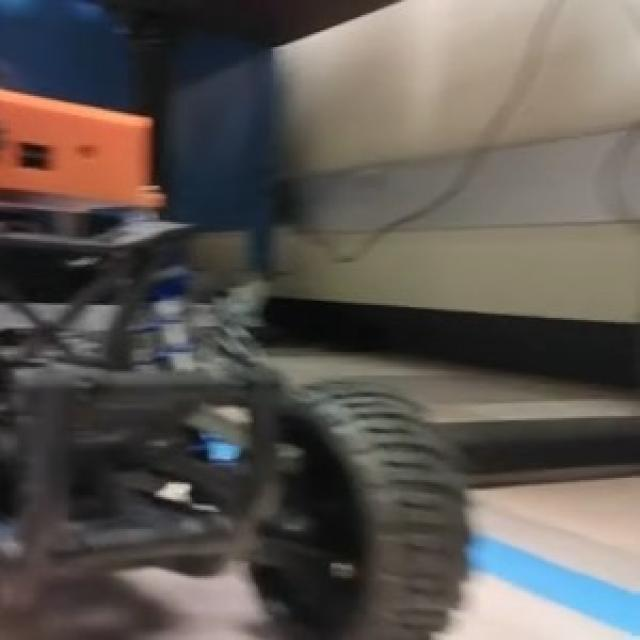obstacle: (3, 90, 470, 638)
